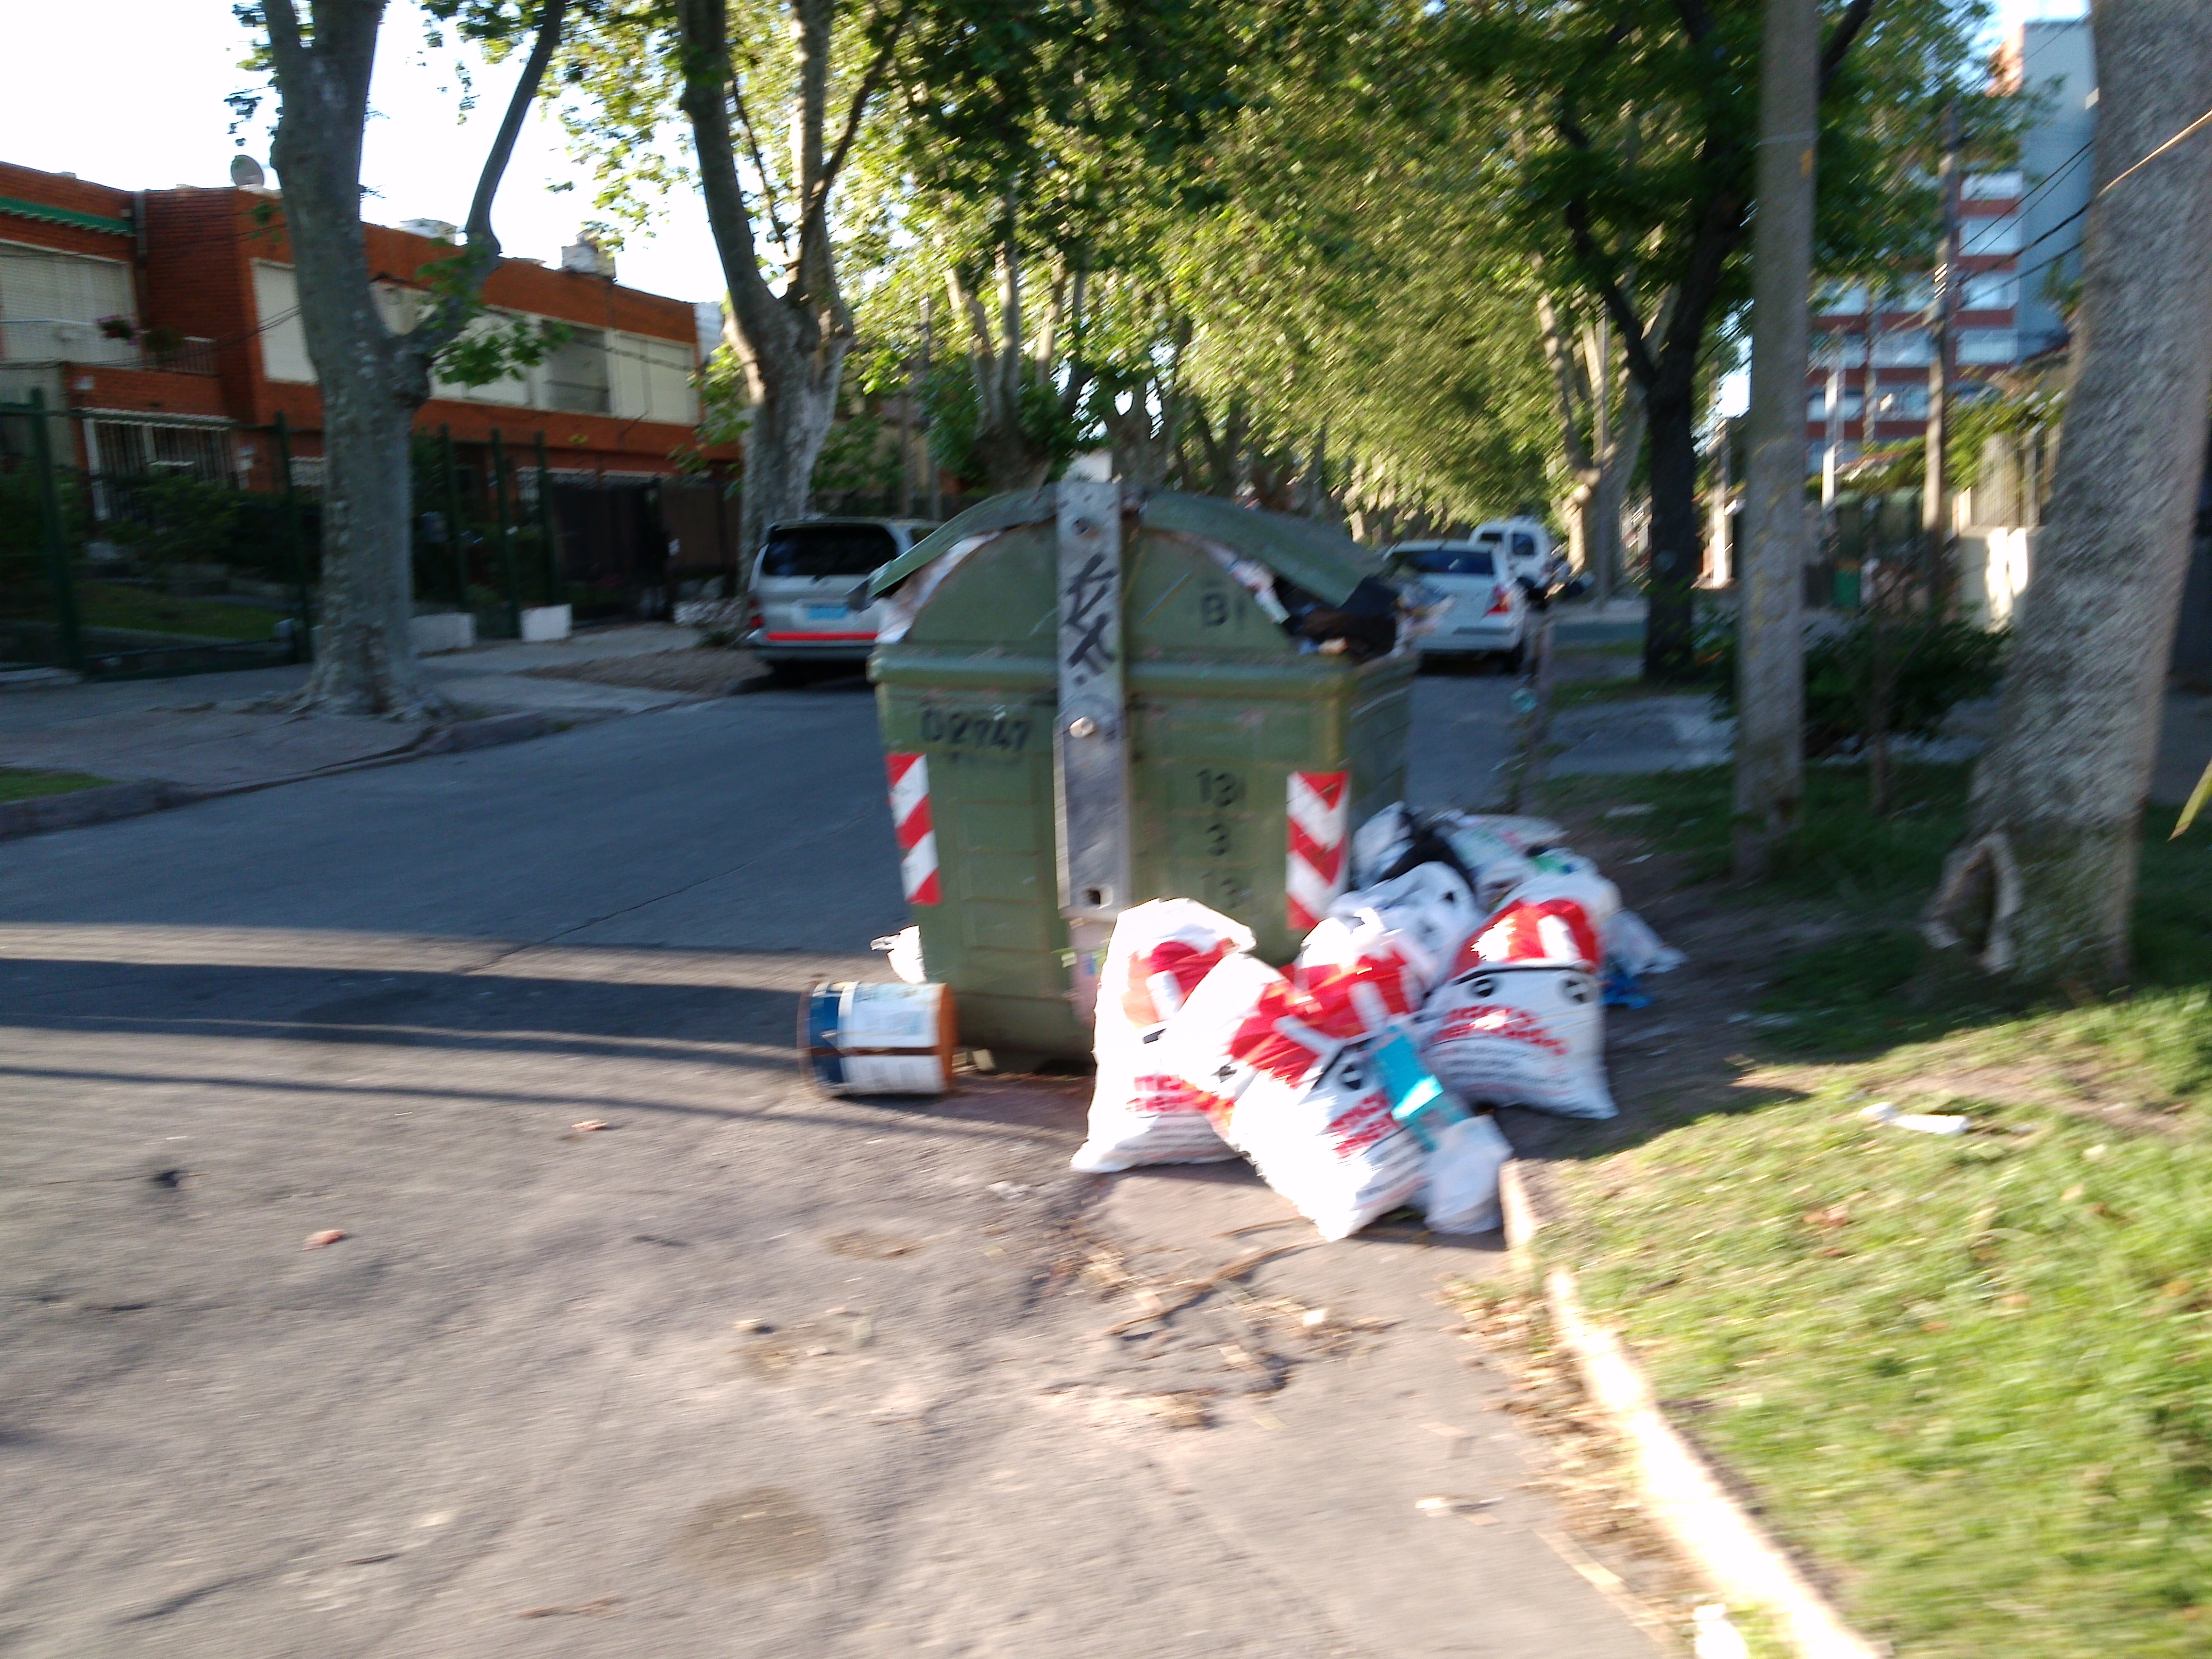container: (845, 444, 1440, 1072)
